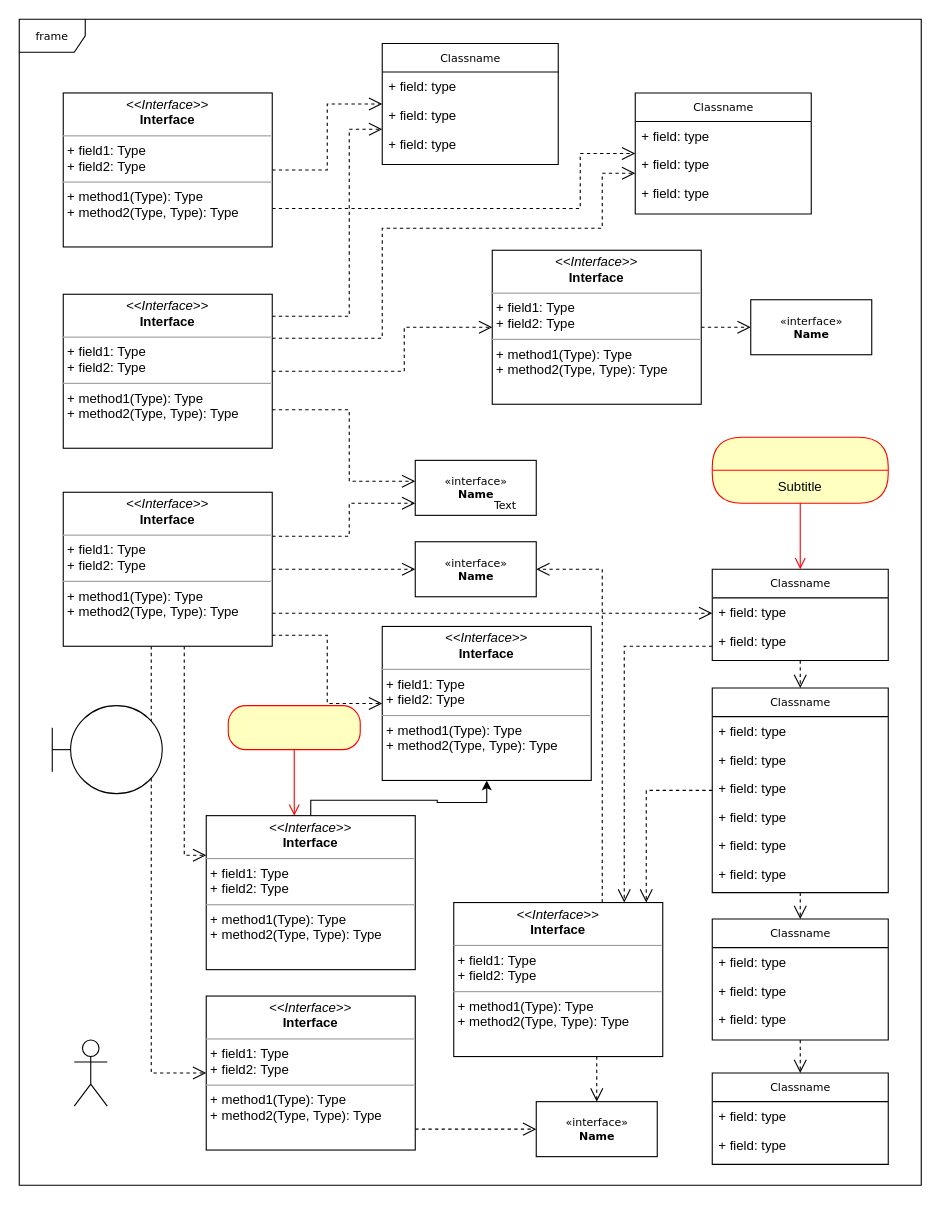
This 941x1205 diagram has some shape labels left out. The shapes that lost their labels are listed below. From the top down, each one's box as (x1, y1, x2, y2) in pixels, then its label:
(711, 436, 888, 503): Composite State
(227, 705, 360, 750): Activity
(51, 705, 162, 794): Boundary Object
(73, 1039, 107, 1106): Actor
